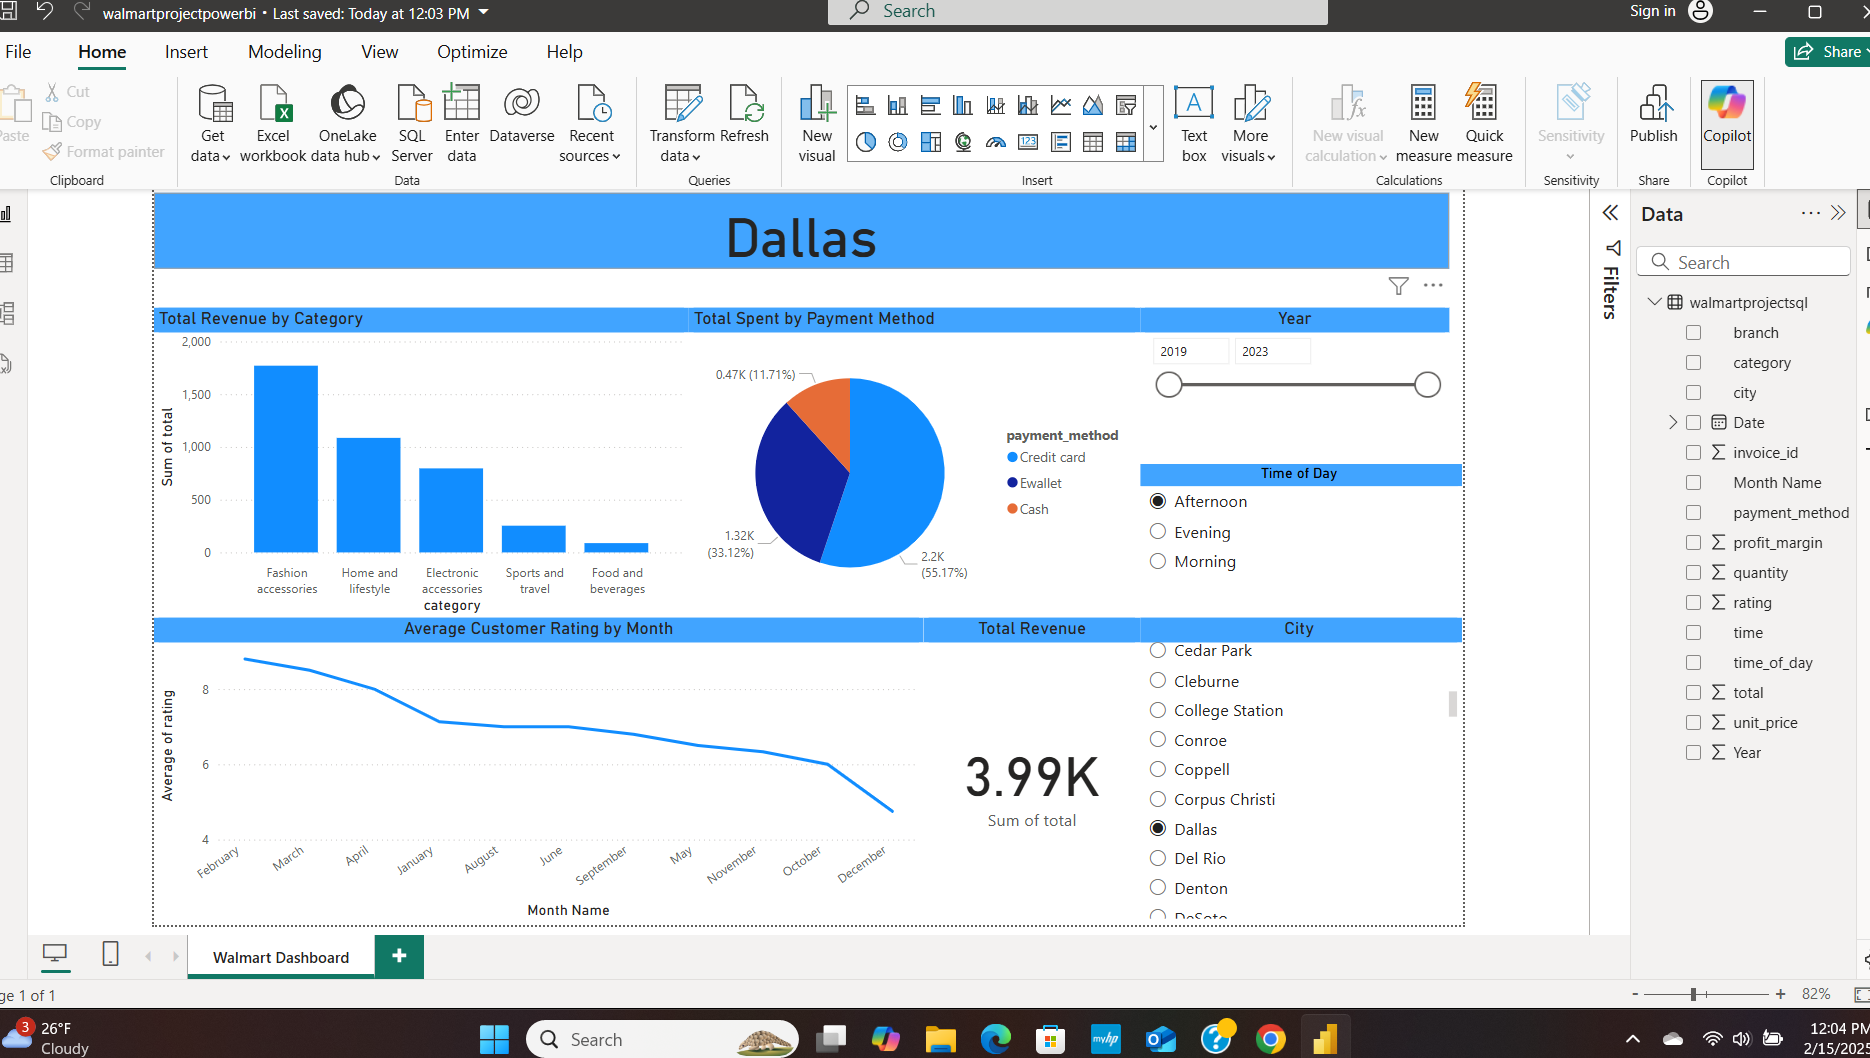

The page's visual inventory and layout, read from the dashboard file:
{"tool":"powerbi","page":{"name":"Walmart Dashboard","canvas":[1280,720],"ordinal":0},"visuals":[{"type":"slicer","title":"Time of Day","fields":{"Values":["walmartprojectsql.time_of_day"]},"box":[961.1,268.7,318.6,151.3],"z":0},{"type":"slicer","title":"City","fields":{"Values":["walmartprojectsql.city"]},"box":[961.1,420,318.6,299],"z":1000},{"type":"pieChart","title":"Total Spent by Payment Method","fields":{"Y":["Sum(walmartprojectsql.total)"],"Category":["walmartprojectsql.payment_method"]},"box":[523.3,115.7,441.4,304.3],"z":2000},{"type":"card","fields":{"Values":["Min(walmartprojectsql.city)"]},"box":[0,3.6,1267.2,74.8],"z":3000},{"type":"columnChart","title":"Total Revenue by Category","fields":{"Y":["Sum(walmartprojectsql.total)"],"Category":["walmartprojectsql.category"]},"box":[0,115.7,523.3,304.3],"z":4000},{"type":"card","title":"Total Revenue ","fields":{"Values":["Sum(walmartprojectsql.total)"]},"box":[752.8,420,211.8,299],"z":5000},{"type":"lineChart","title":"Average Customer Rating by Month","fields":{"Y":["Avg(walmartprojectsql.rating)"],"Category":["walmartprojectsql.Month Name"]},"box":[0,420,752.8,299],"z":6000},{"type":"slicer","title":"Year","fields":{"Values":["walmartprojectsql.Year"]},"box":[964.6,115.7,302.6,153.1],"z":7000}]}

Visuals, with their boxes on the page's 1280x720 design canvas (x1, y1, x2, y2). These are canvas units, not pixel positions in the 1870x1058 screenshot, which may show the page scaled, cropped or inside an application window:
"Time of Day" slicer: 961 269 1280 420
"City" slicer: 961 420 1280 719
"Total Spent by Payment Method" pieChart: 523 116 965 420
card - Min(walmartprojectsql.city): 0 4 1267 78
"Total Revenue by Category" columnChart: 0 116 523 420
"Total Revenue " card: 753 420 965 719
"Average Customer Rating by Month" lineChart: 0 420 753 719
"Year" slicer: 965 116 1267 269
